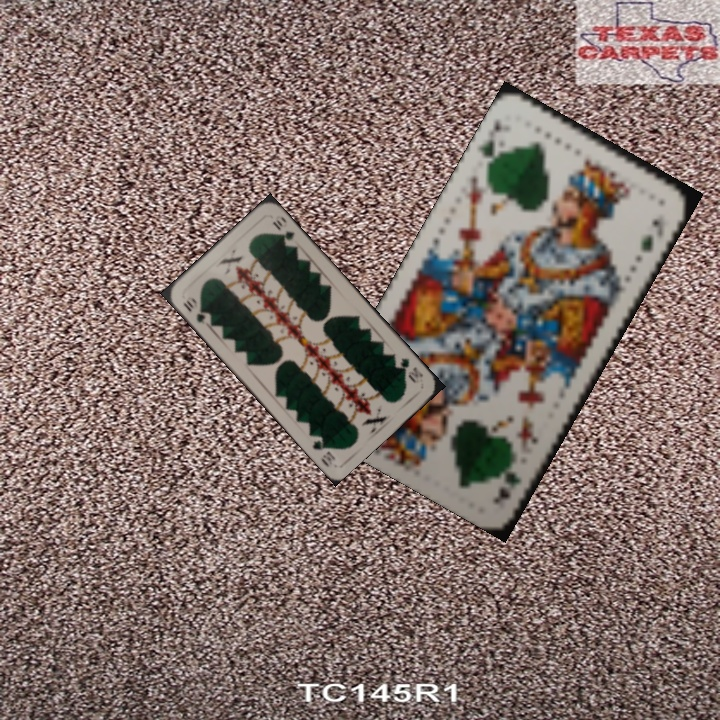G10: (179, 294, 209, 327), (396, 354, 426, 386)
GK: (474, 116, 504, 169), (489, 467, 523, 506)
